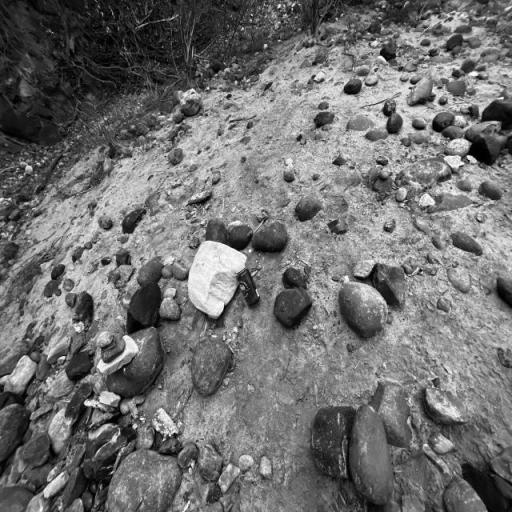bottle: (230, 263, 260, 307)
